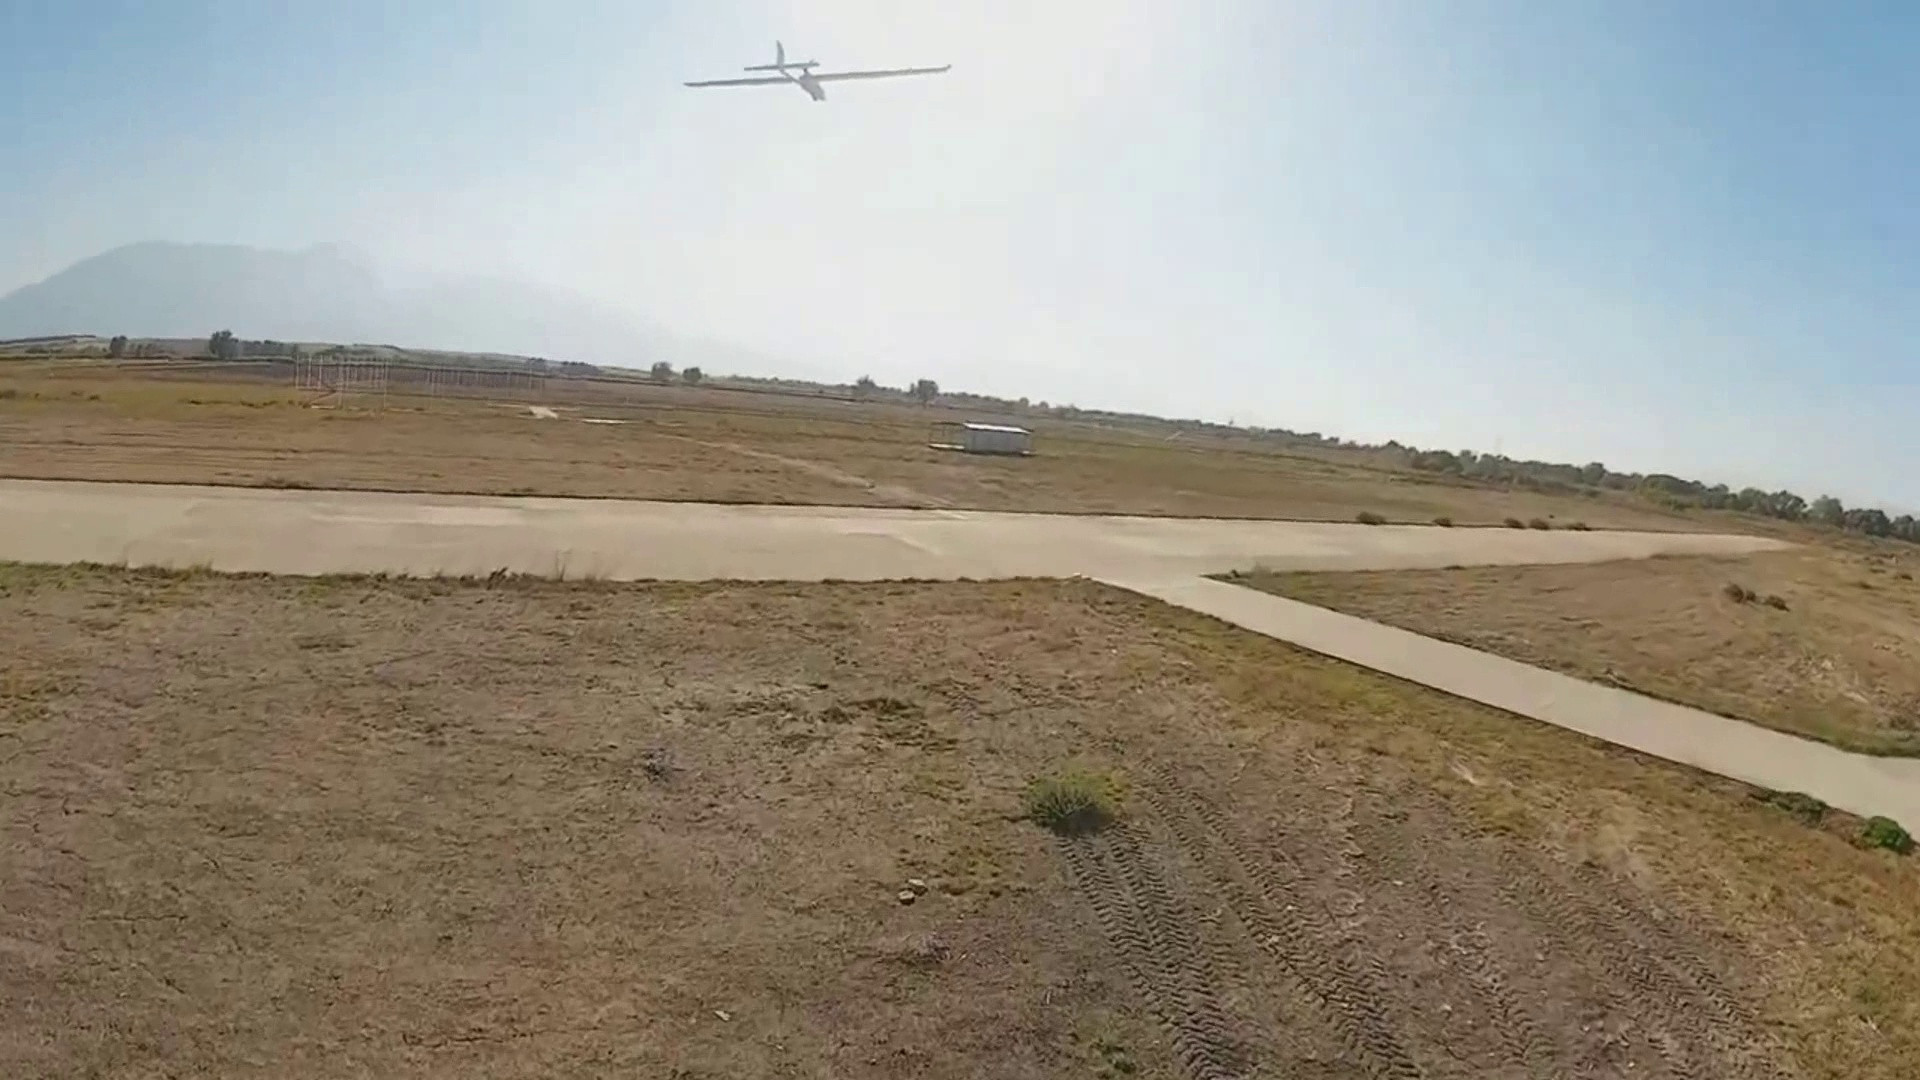airplane: (682, 32, 955, 103)
